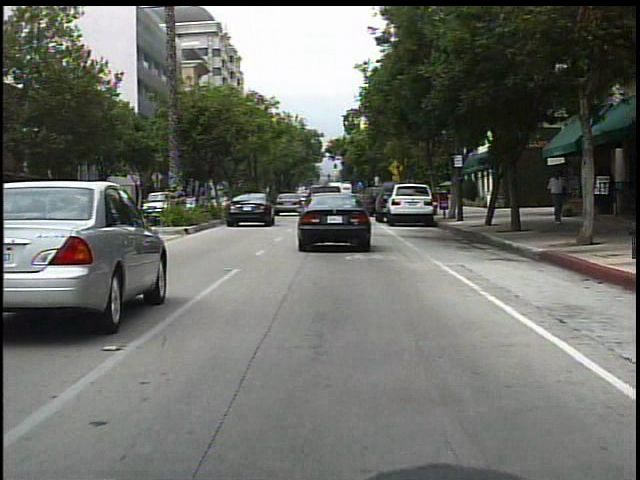person: (544, 169, 571, 229)
